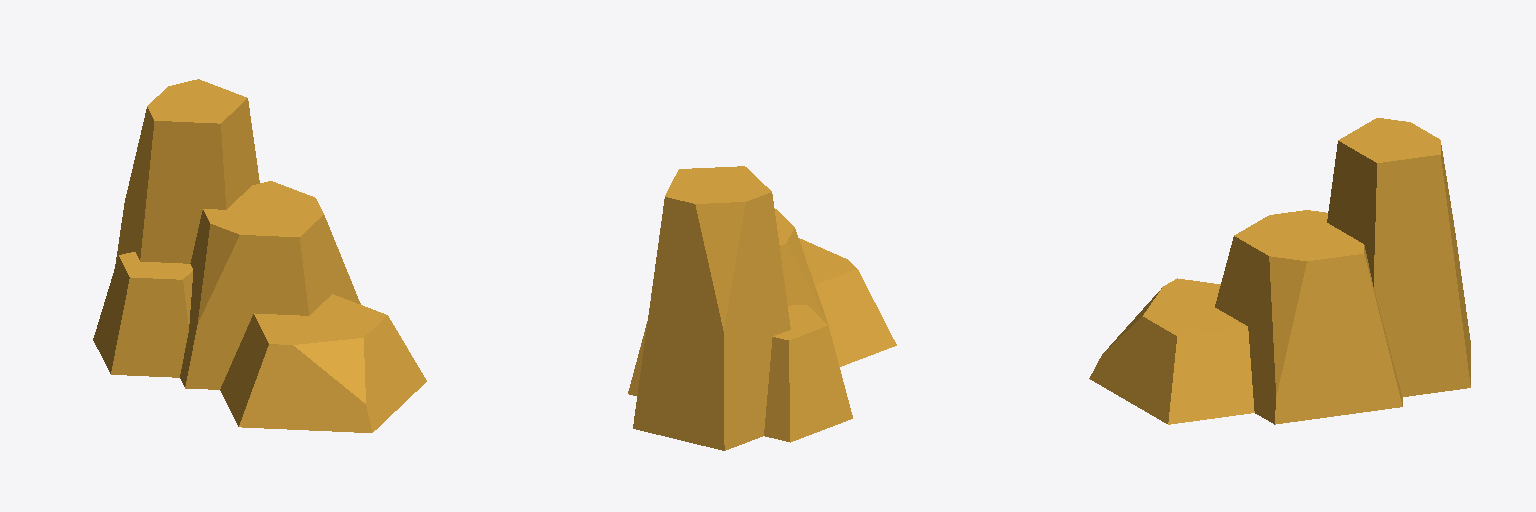
The model's file is rockC4.obj.
The picture shows the model from 3 angles: view 1: azimuth 30°, elevation 25°; view 2: azimuth 150°, elevation 25°; view 3: azimuth 270°, elevation 25°; orthographic projection.
Visible parts, largest first — view 1: rockC2; view 2: rockC2; view 3: rockC2.
Part boxes in pixels (bbox=[...]): rockC2: bbox=[93, 79, 426, 432]; rockC2: bbox=[628, 166, 896, 450]; rockC2: bbox=[1089, 118, 1470, 424].
Bounding box in the file's own units: 2.19 × 2.04 × 3.13.